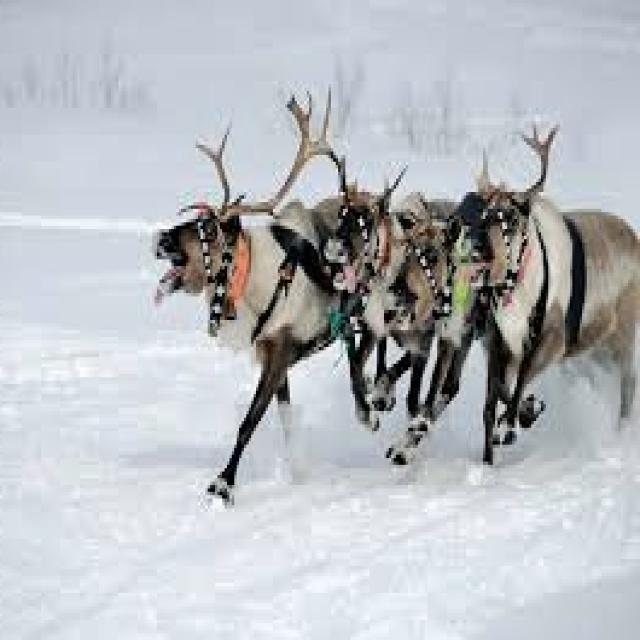reindeer: (157, 94, 341, 499), (452, 128, 640, 461), (328, 158, 476, 461)
